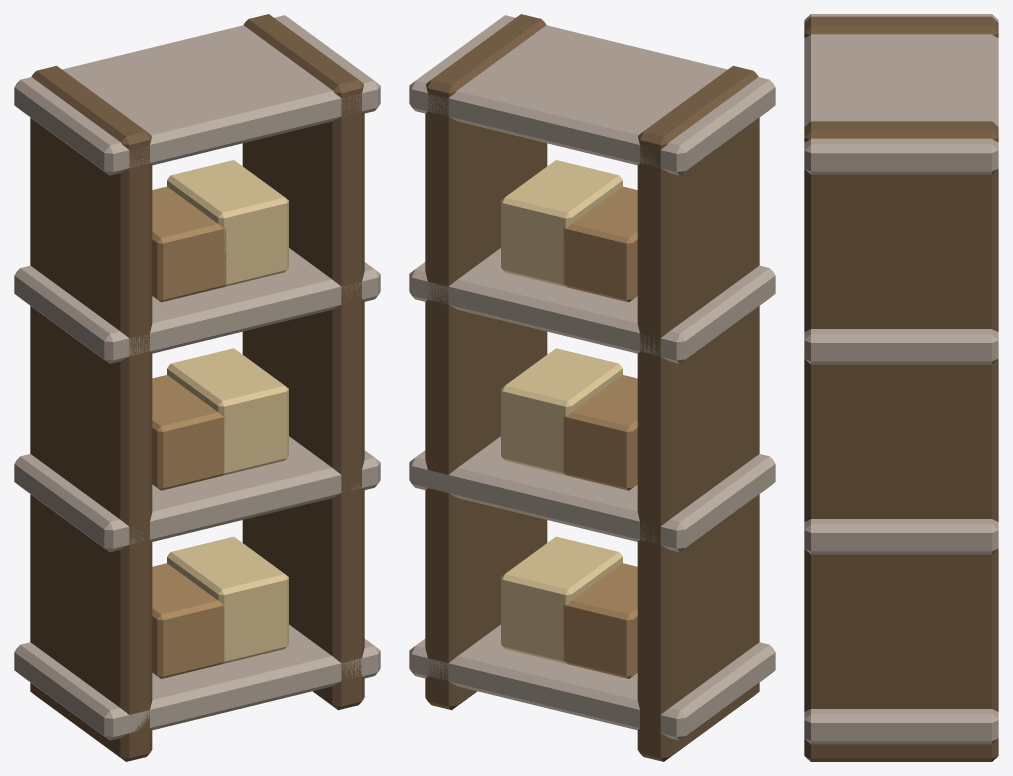
Rendered from shelf.glb.
3 renders of one model, left to right at view 1: azimuth 30°, elevation 25°; view 2: azimuth 150°, elevation 25°; view 3: azimuth 270°, elevation 25°, orthographic.
Bounding box in the file's own units: 0.86 × 1.86 × 0.52.
